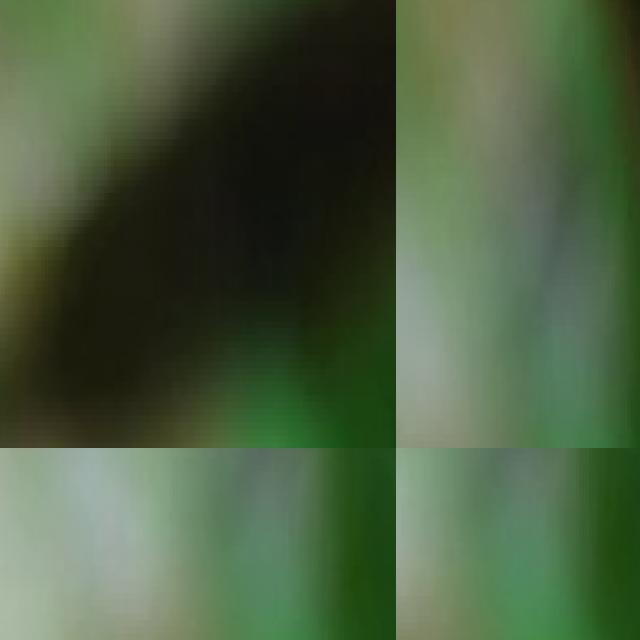fish: (0, 0, 396, 448), (396, 0, 640, 359)
